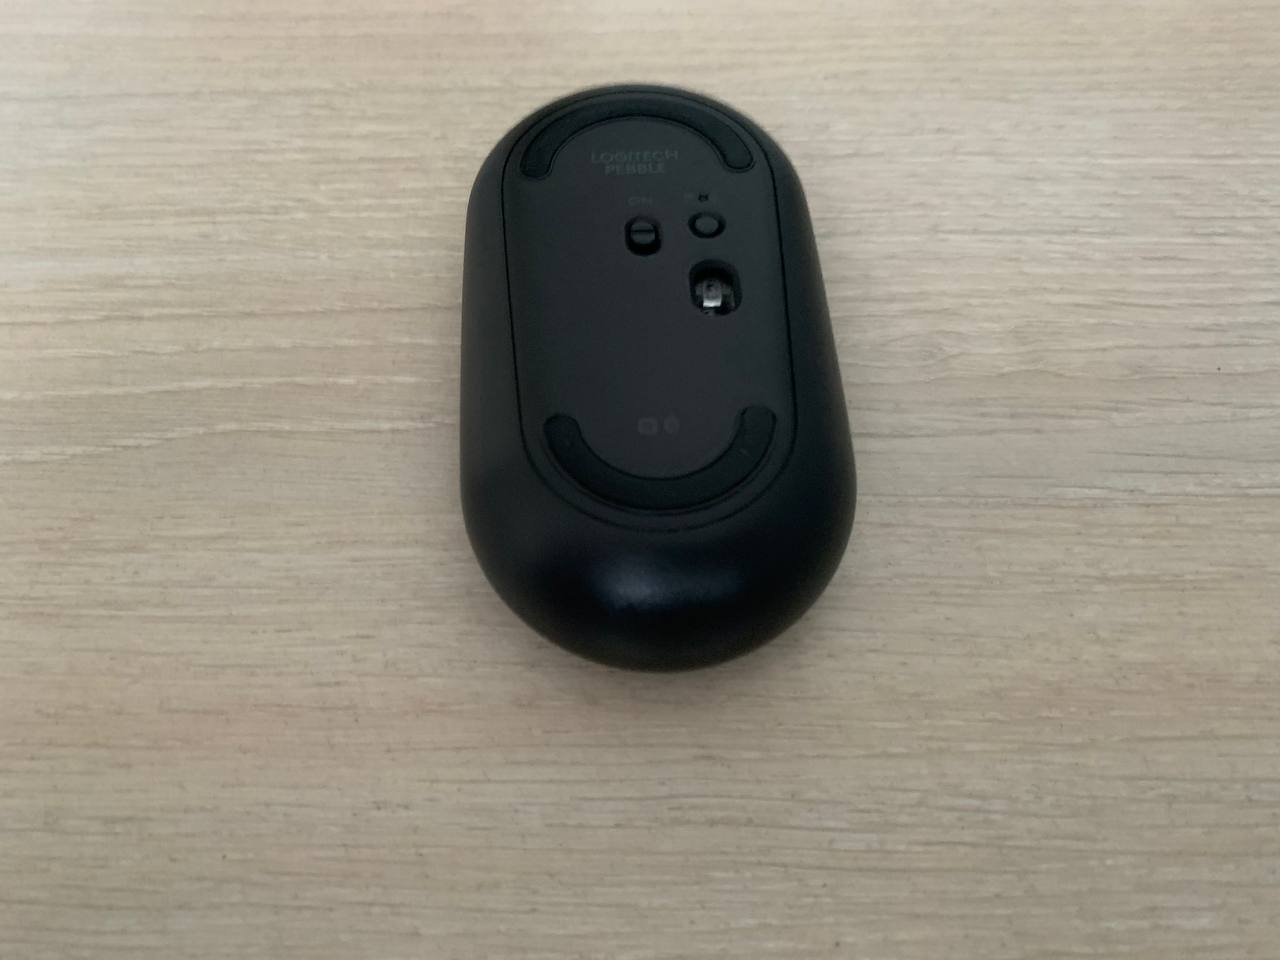mouse: (461, 86, 855, 670)
